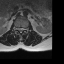CCS_normal: (19, 25, 21, 35)
LFS_stenosis: (24, 26, 26, 31)
LLS_normal: (21, 25, 24, 33)
RFS_normal: (15, 25, 17, 31)
RLS_normal: (17, 25, 19, 33)
